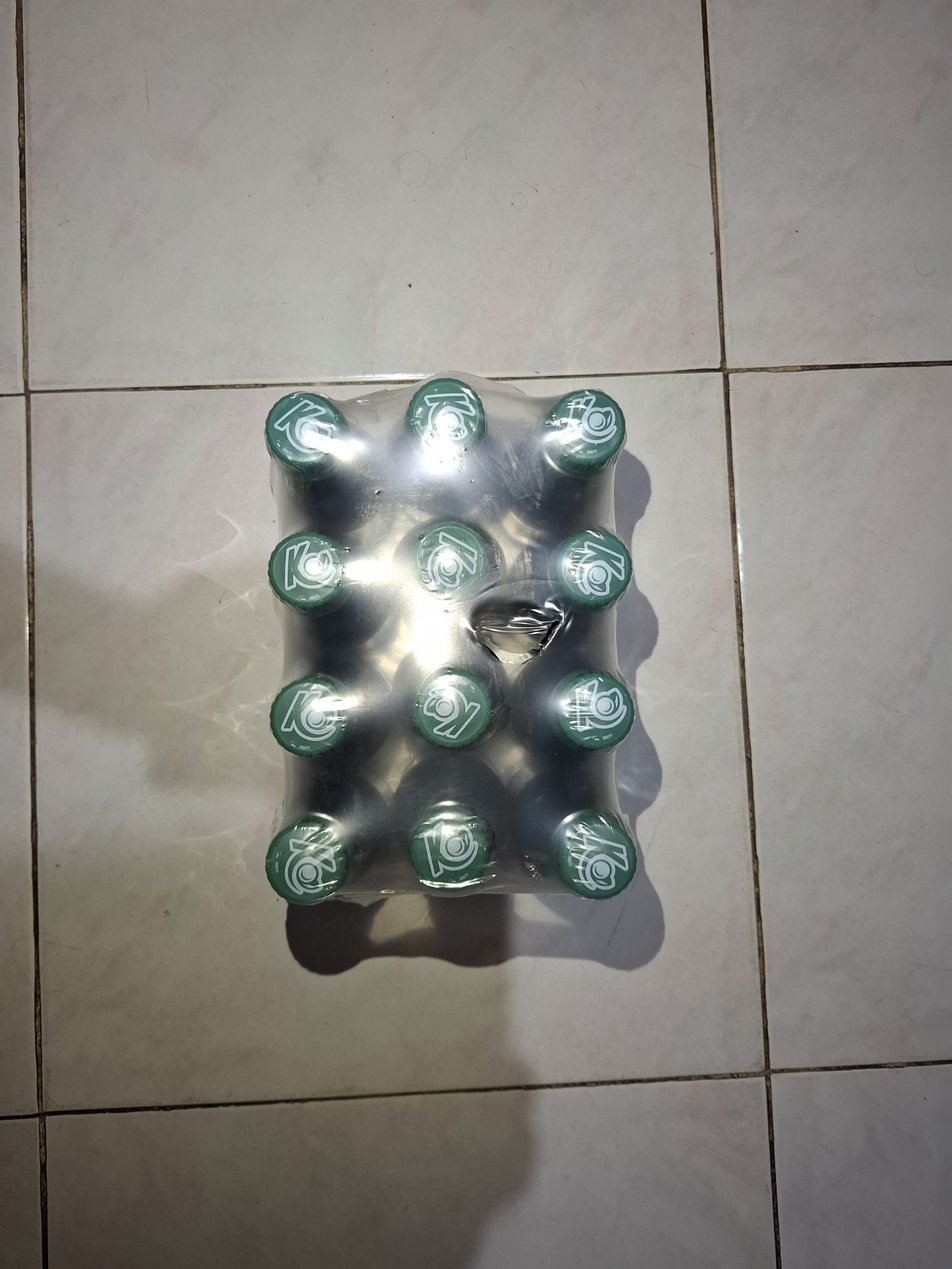Tampa Refrigerante Kuat: (261, 807, 361, 908), (406, 798, 496, 902), (401, 365, 492, 465), (551, 801, 635, 904), (544, 521, 636, 614), (403, 515, 492, 610), (537, 379, 625, 471), (264, 384, 347, 477), (263, 676, 355, 756), (414, 669, 496, 756), (271, 532, 352, 614), (551, 667, 630, 745)
